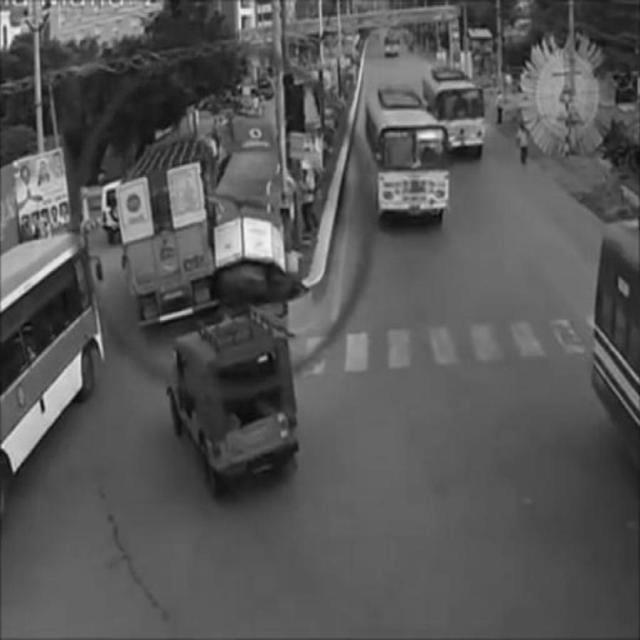accident: (118, 142, 295, 318)
person: (516, 121, 532, 172)
vehicle: (167, 325, 299, 499), (366, 92, 448, 223), (426, 72, 486, 154)
